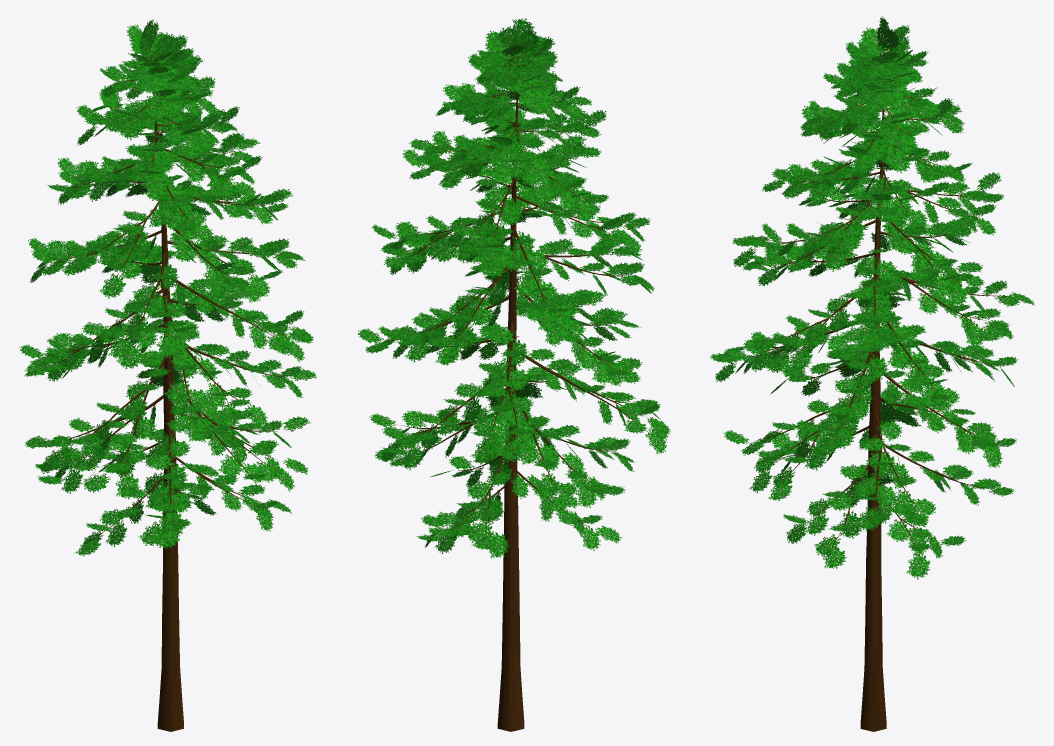
Rendered from Tree2.fbx.
3 renders of one model, left to right at view 1: azimuth 30°, elevation 25°; view 2: azimuth 150°, elevation 25°; view 3: azimuth 270°, elevation 25°, orthographic. The views are drawn at different scales.
Parts seen in each view (by area): view 1: leaves, tree; view 2: leaves, tree; view 3: leaves, tree.
Part boxes in pixels (x1,y1,x2,y2): leaves: (19, 19, 317, 556); tree: (51, 49, 287, 731); leaves: (358, 18, 670, 558); tree: (388, 52, 642, 731); leaves: (710, 16, 1034, 579); tree: (741, 47, 1007, 731).
Size of the model in its own units: 396 by 948 by 407.
